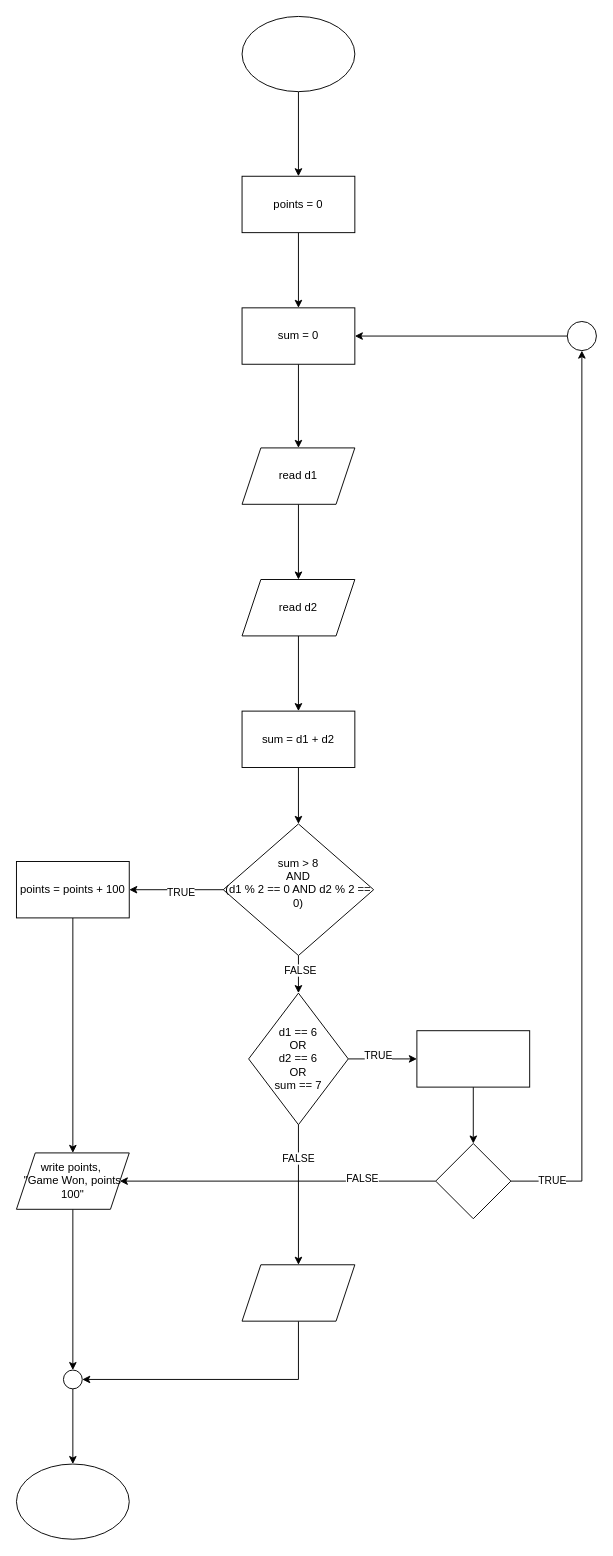
Image size: 613x1556. Some labels were removed from this diagram. The box of each missing label's shape, as (x1, y1, x2, y2) in pixels:
end: (16, 1463, 129, 1539)
points < 100: (435, 1143, 511, 1219)
points = points +10: (416, 1030, 530, 1087)
start: (241, 16, 355, 92)
write points "Game Lost, points 0": (241, 1264, 355, 1321)
